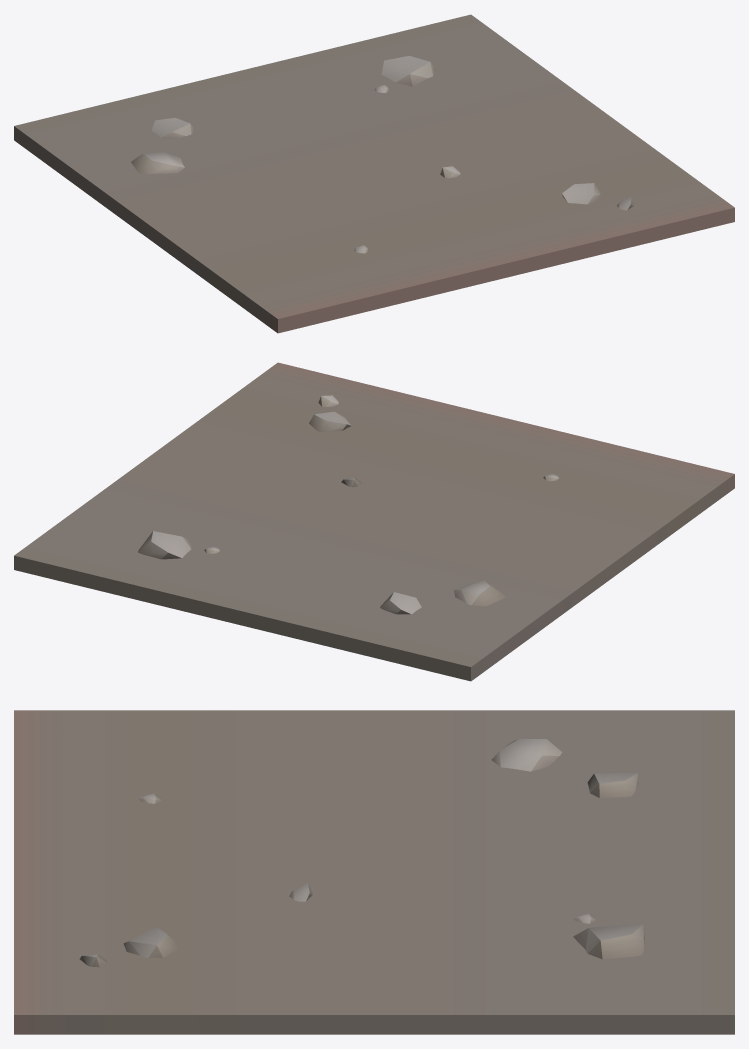
File: floor_dirt_large.glb
3 renders of one model, top to bottom at view 1: azimuth 30°, elevation 25°; view 2: azimuth 150°, elevation 25°; view 3: azimuth 270°, elevation 25°, orthographic. The views are drawn at different scales.
Visible parts, largest first — view 1: floor_dirt_large; view 2: floor_dirt_large; view 3: floor_dirt_large.
Part boxes in pixels (x1,y1,x2,y2): floor_dirt_large: (14, 14, 734, 333); floor_dirt_large: (14, 362, 734, 681); floor_dirt_large: (14, 710, 734, 1034).
Bounding box in the file's own units: 4 × 0.2085 × 4.
Materials: 1 (1 with a texture image).
